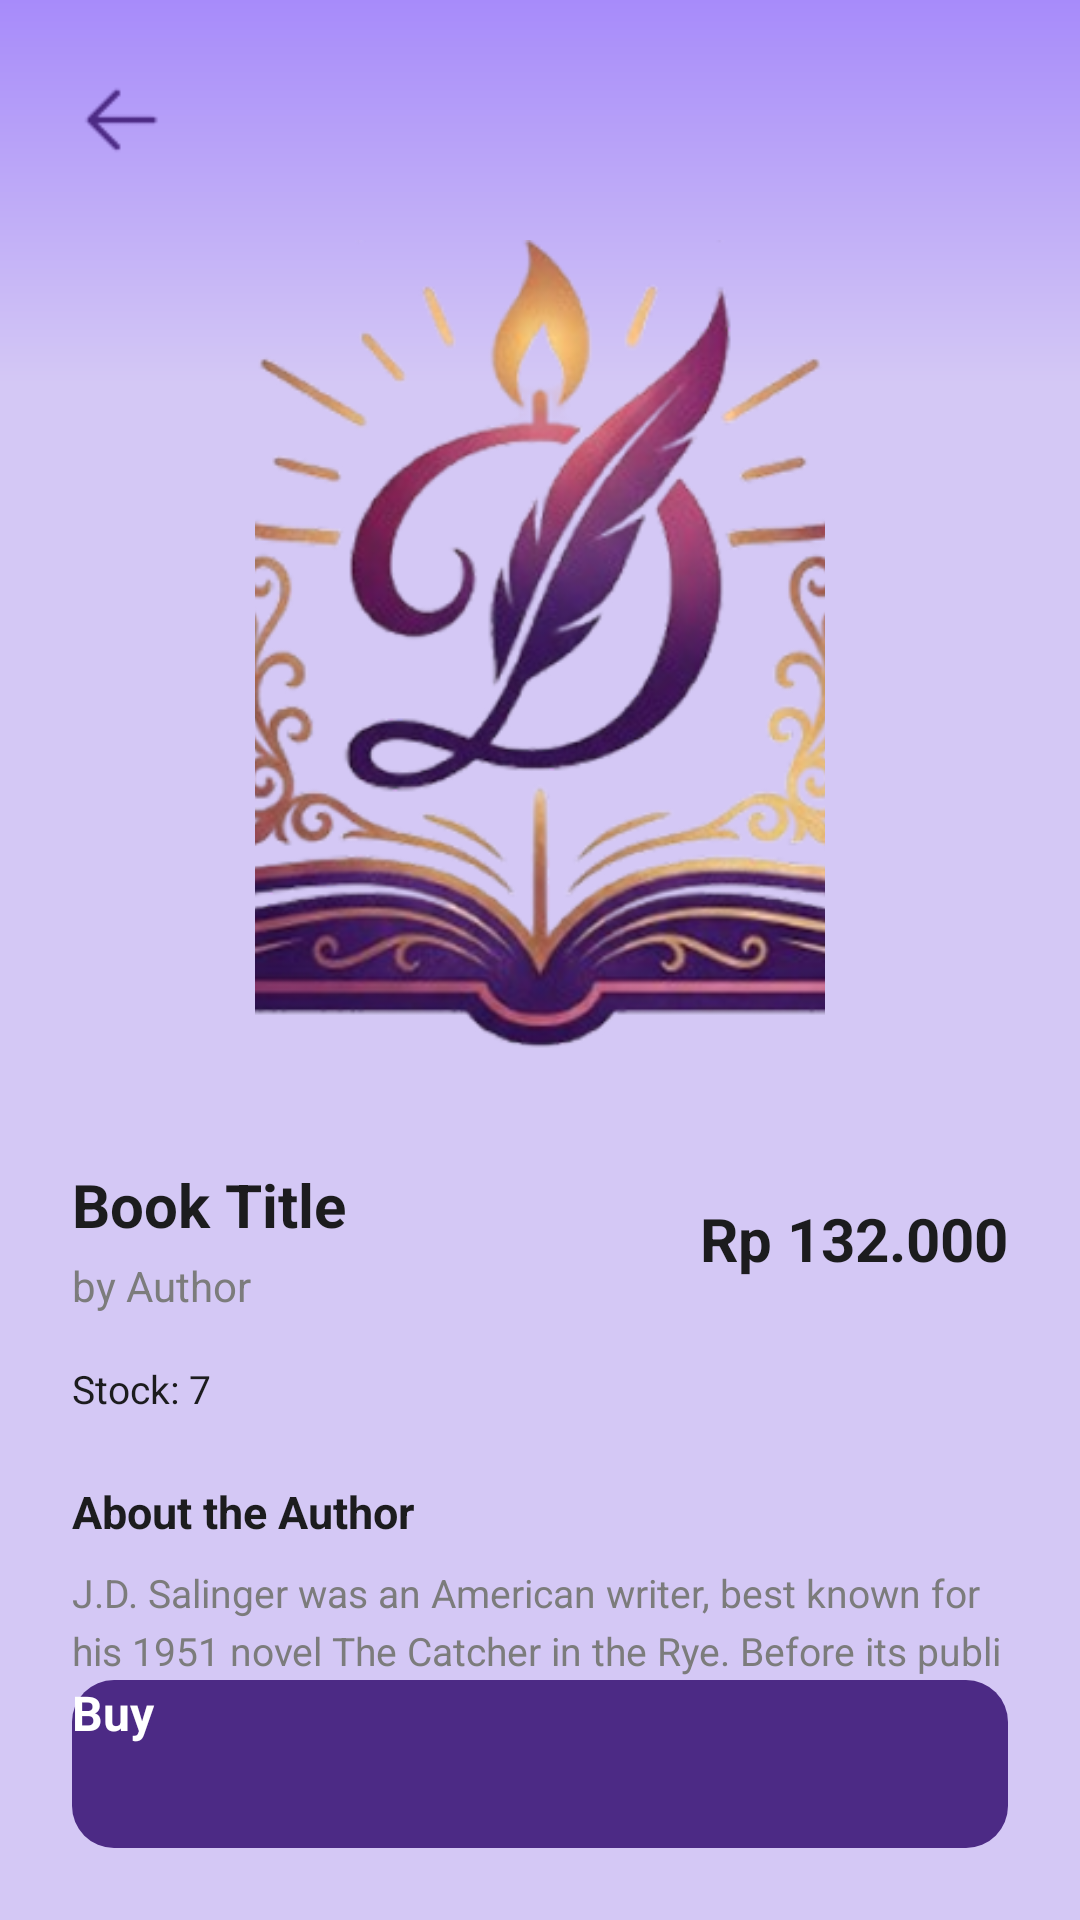

Where to tap for icons on this 1080×1920 app screen, as point (x, y):
Back: point (122, 119)
